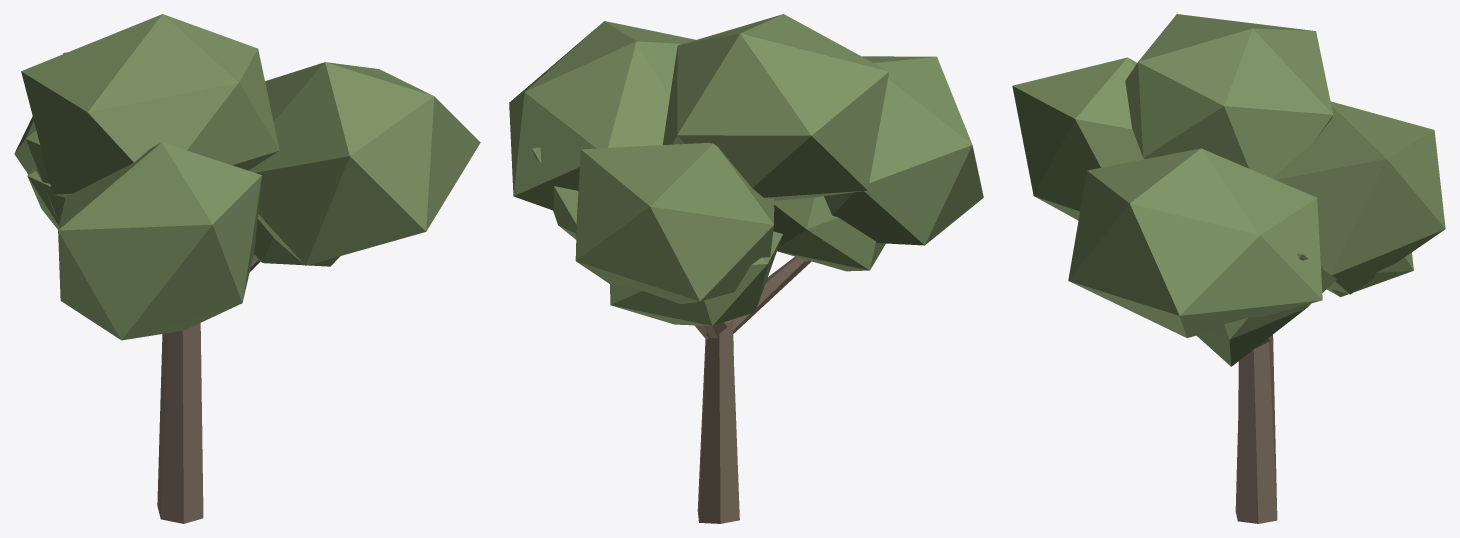
The model's file is broadleaf_1.glb.
3 views of the same model, side by side, from view 1: azimuth 30°, elevation 25°; view 2: azimuth 150°, elevation 25°; view 3: azimuth 270°, elevation 25° (orthographic). The views are drawn at different scales.
Visible parts, largest first — view 1: broadleaf_1.001; view 2: broadleaf_1.001; view 3: broadleaf_1.001.
Part boxes in pixels (x1,y1,x2,y2): broadleaf_1.001: [14, 14, 480, 523]; broadleaf_1.001: [509, 14, 983, 523]; broadleaf_1.001: [1012, 14, 1445, 523].
Size of the model in its own units: 9.03 by 9.67 by 7.94.
